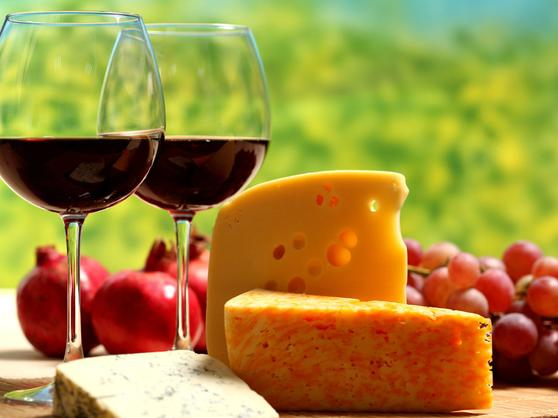cheese: (206, 166, 423, 299)
